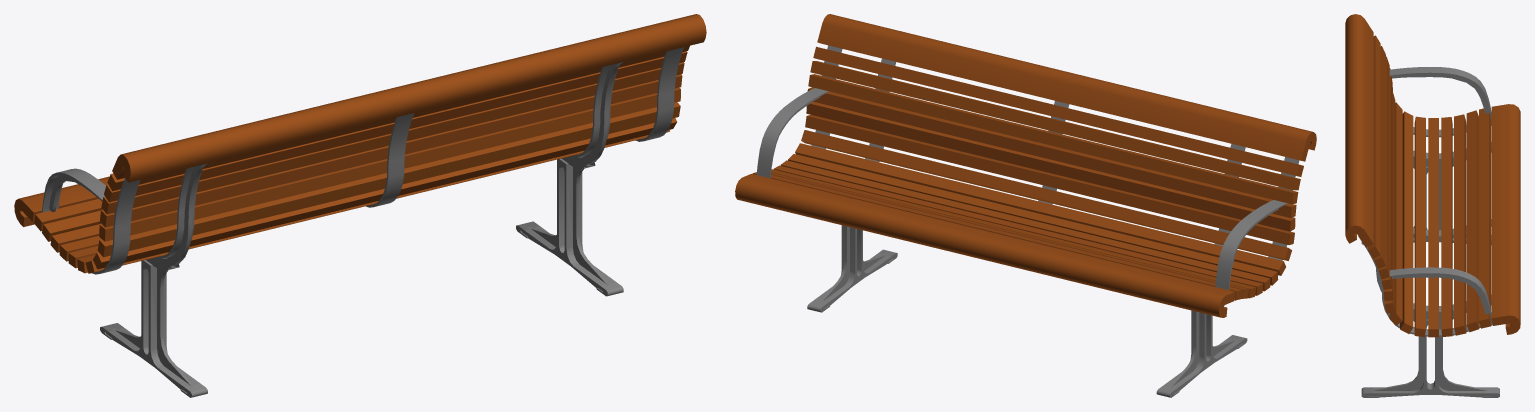
3 renders of one model, left to right at view 1: azimuth 30°, elevation 25°; view 2: azimuth 150°, elevation 25°; view 3: azimuth 270°, elevation 25°, orthographic. The views are drawn at different scales.
Parts seen in each view (by area): view 1: mesh1_mesh1-geometry, mesh5_mesh5-geometry, mesh13_mesh13-geometry, mesh11_mesh11-geometry, mesh17_mesh17-geometry, mesh3_mesh3-geometry, mesh8_mesh8-geometry; view 2: mesh1_mesh1-geometry, mesh5_mesh5-geometry, mesh3_mesh3-geometry, mesh13_mesh13-geometry, mesh8_mesh8-geometry, mesh11_mesh11-geometry; view 3: mesh1_mesh1-geometry, mesh3_mesh3-geometry, mesh5_mesh5-geometry, mesh13_mesh13-geometry, mesh8_mesh8-geometry, mesh11_mesh11-geometry, mesh17_mesh17-geometry.
Part boxes in pixels (box(x1,y1,x2,y2)): mesh1_mesh1-geometry: box(34, 45, 689, 273); mesh5_mesh5-geometry: box(112, 14, 706, 182); mesh13_mesh13-geometry: box(100, 156, 623, 397); mesh11_mesh11-geometry: box(92, 47, 684, 274); mesh17_mesh17-geometry: box(156, 60, 630, 266); mesh3_mesh3-geometry: box(14, 176, 109, 226); mesh8_mesh8-geometry: box(42, 76, 676, 213); mesh1_mesh1-geometry: box(752, 46, 1303, 300); mesh5_mesh5-geometry: box(817, 14, 1316, 161); mesh3_mesh3-geometry: box(735, 174, 1235, 317); mesh13_mesh13-geometry: box(807, 225, 1247, 397); mesh8_mesh8-geometry: box(756, 88, 1288, 289); mesh11_mesh11-geometry: box(811, 45, 1299, 260); mesh1_mesh1-geometry: box(1368, 35, 1491, 337); mesh3_mesh3-geometry: box(1491, 104, 1520, 334); mesh5_mesh5-geometry: box(1345, 14, 1373, 247); mesh13_mesh13-geometry: box(1361, 158, 1499, 397); mesh8_mesh8-geometry: box(1389, 67, 1492, 324); mesh11_mesh11-geometry: box(1358, 123, 1492, 336); mesh17_mesh17-geometry: box(1376, 142, 1491, 313).
Size of the model in its own units: 0.8426 by 0.3694 by 0.2953.
